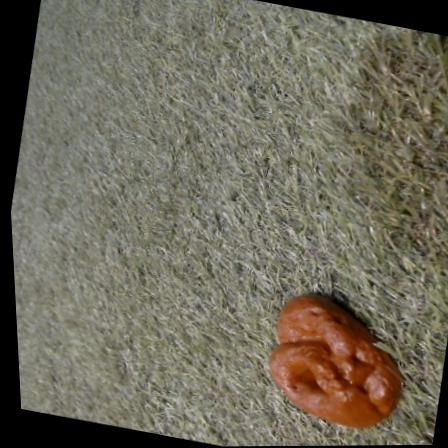dog-poop: (253, 301, 388, 436)
